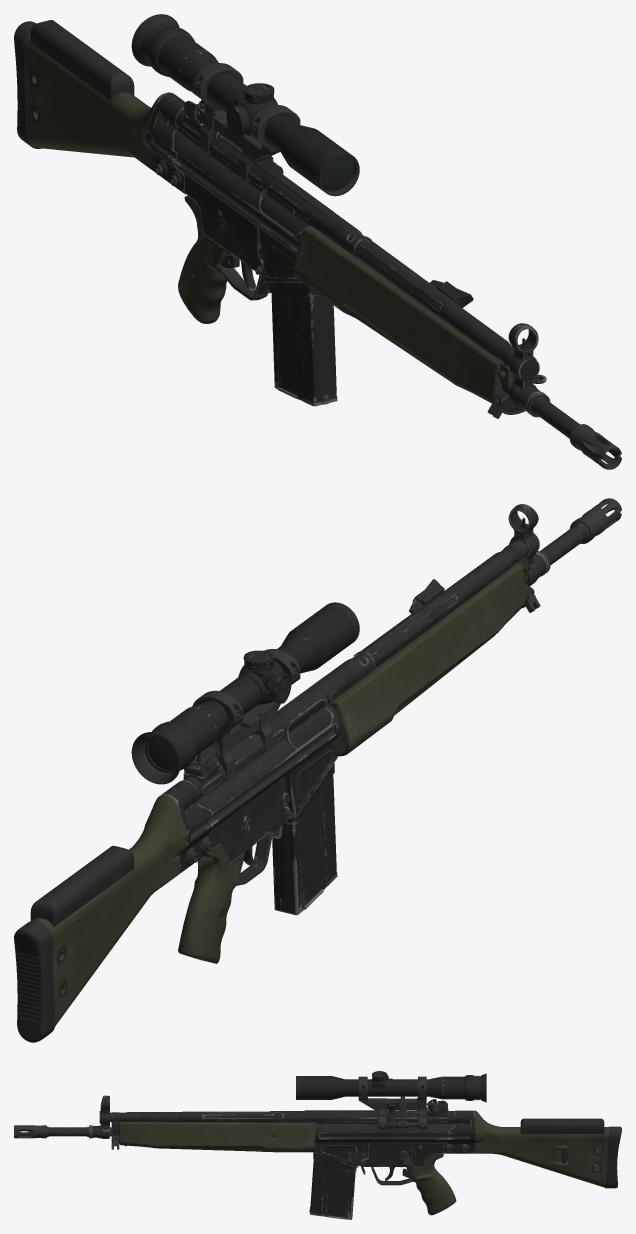
3 views of the same model, one above another, from view 1: azimuth 30°, elevation 25°; view 2: azimuth 150°, elevation 25°; view 3: azimuth 270°, elevation 25° (orthographic). The views are drawn at different scales.
Visible parts, largest first — view 1: G3SG1_CS2; view 2: G3SG1_CS2; view 3: G3SG1_CS2.
Boxes of the visible parts, box(x1,y1,x2,y2) form: G3SG1_CS2: box(14, 14, 621, 469); G3SG1_CS2: box(14, 498, 621, 1042); G3SG1_CS2: box(14, 1071, 621, 1219).
Size of the model in its own units: 0.0612 by 0.2819 by 1.09.
Materials: 1 (1 with a texture image).
